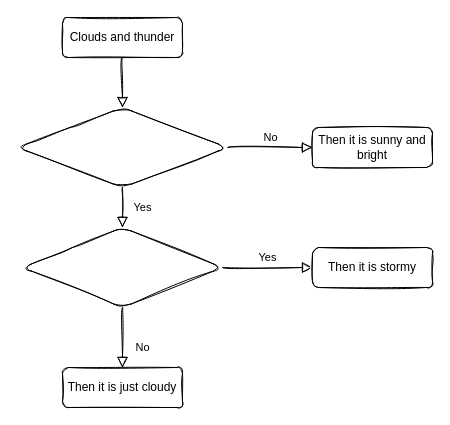
The diagram is 450 pixels wide and 425 high, and some of its shapes have lost their labels. Here are the shapes that lost their labels. From the top down, the centre of each, then its label:
At pixel 122 147: "Is it true that there are clouds".
At pixel 122 267: "Is is true that there is thunder?".
